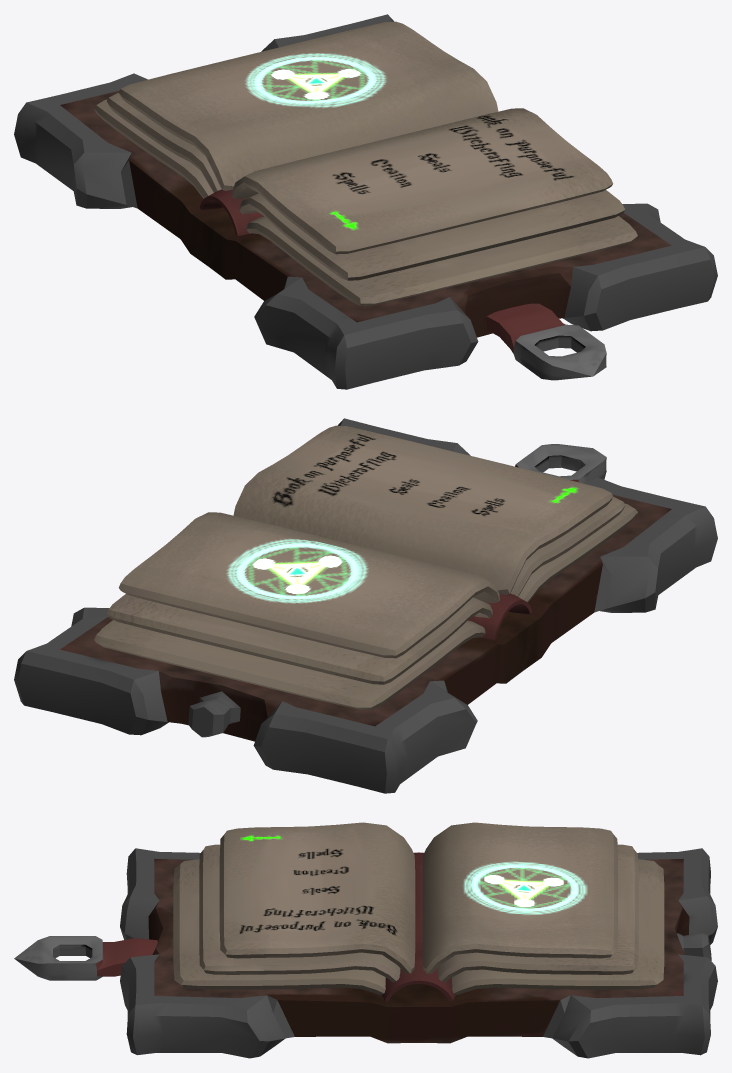
The model's file is Book.fbx.
3 views of the same model, one above another, from view 1: azimuth 30°, elevation 25°; view 2: azimuth 150°, elevation 25°; view 3: azimuth 270°, elevation 25° (orthographic). The views are drawn at different scales.
Parts seen in each view (by area): view 1: BookCover.001; view 2: BookCover.001; view 3: BookCover.001.
Part boxes in pixels (x1,y1,x2,y2): BookCover.001: (14, 14, 717, 389); BookCover.001: (14, 418, 717, 793); BookCover.001: (14, 822, 717, 1058).
Bounding box in the file's own units: 63.45 × 109 × 16.08.
1 material, 1 textured.
